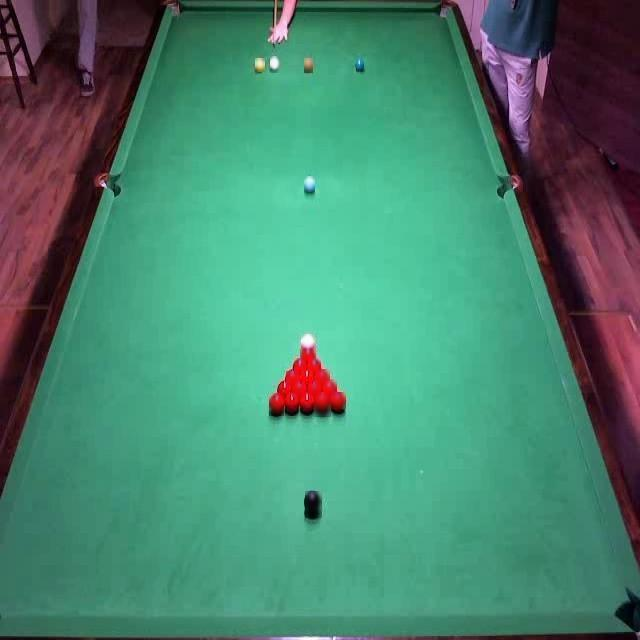Ball: (305, 491, 322, 518), (314, 392, 331, 417), (298, 392, 314, 414), (269, 393, 284, 416), (284, 394, 299, 414), (331, 392, 346, 409), (301, 334, 316, 350), (316, 369, 330, 386), (278, 381, 292, 397), (324, 379, 337, 396), (286, 371, 300, 386), (308, 356, 321, 372), (308, 380, 321, 395), (294, 358, 306, 374), (270, 56, 281, 73), (292, 384, 306, 397), (301, 370, 314, 384), (355, 57, 366, 73), (304, 176, 315, 192), (300, 349, 316, 359), (255, 58, 265, 72), (304, 58, 313, 73)
